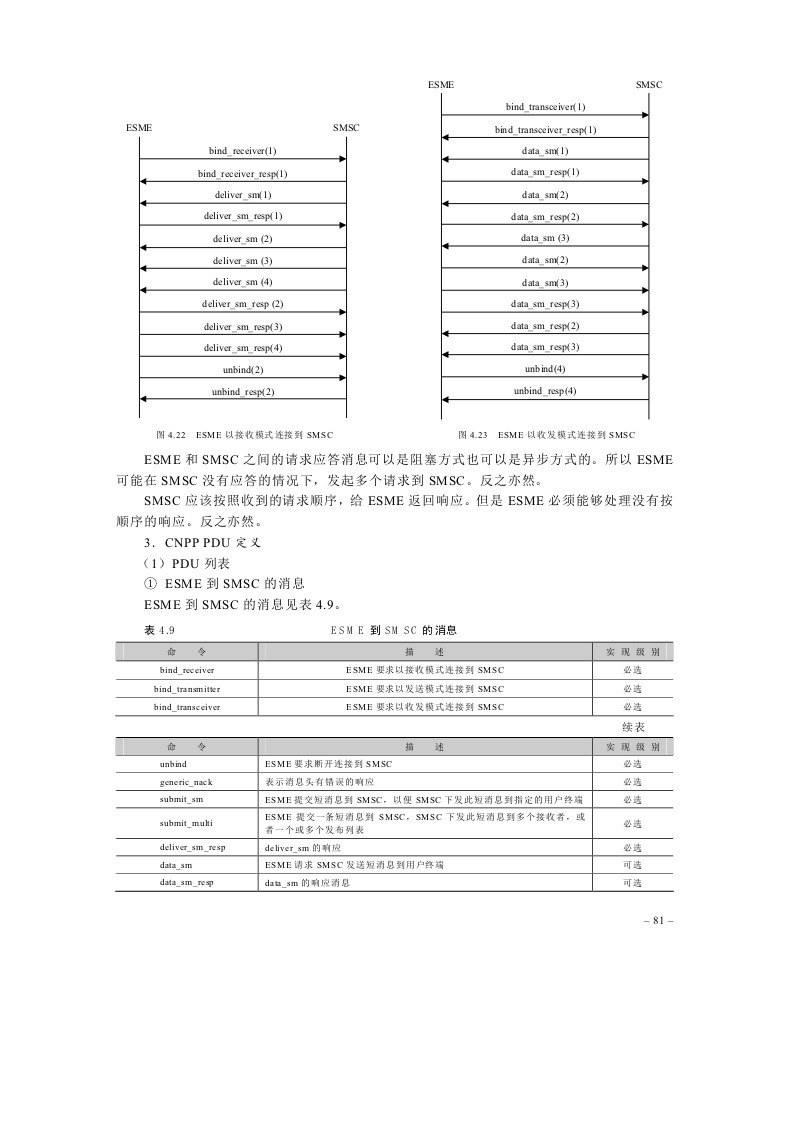table: (115, 735, 675, 891), (115, 641, 674, 716)
